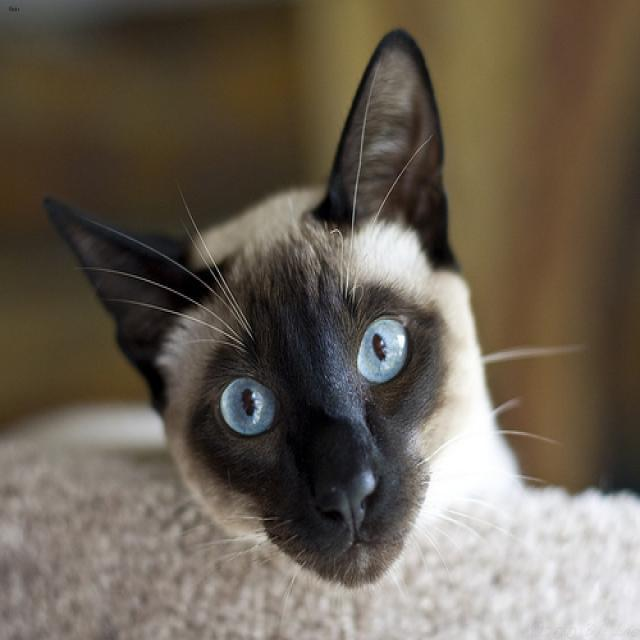Siamese: (40, 27, 463, 589)
